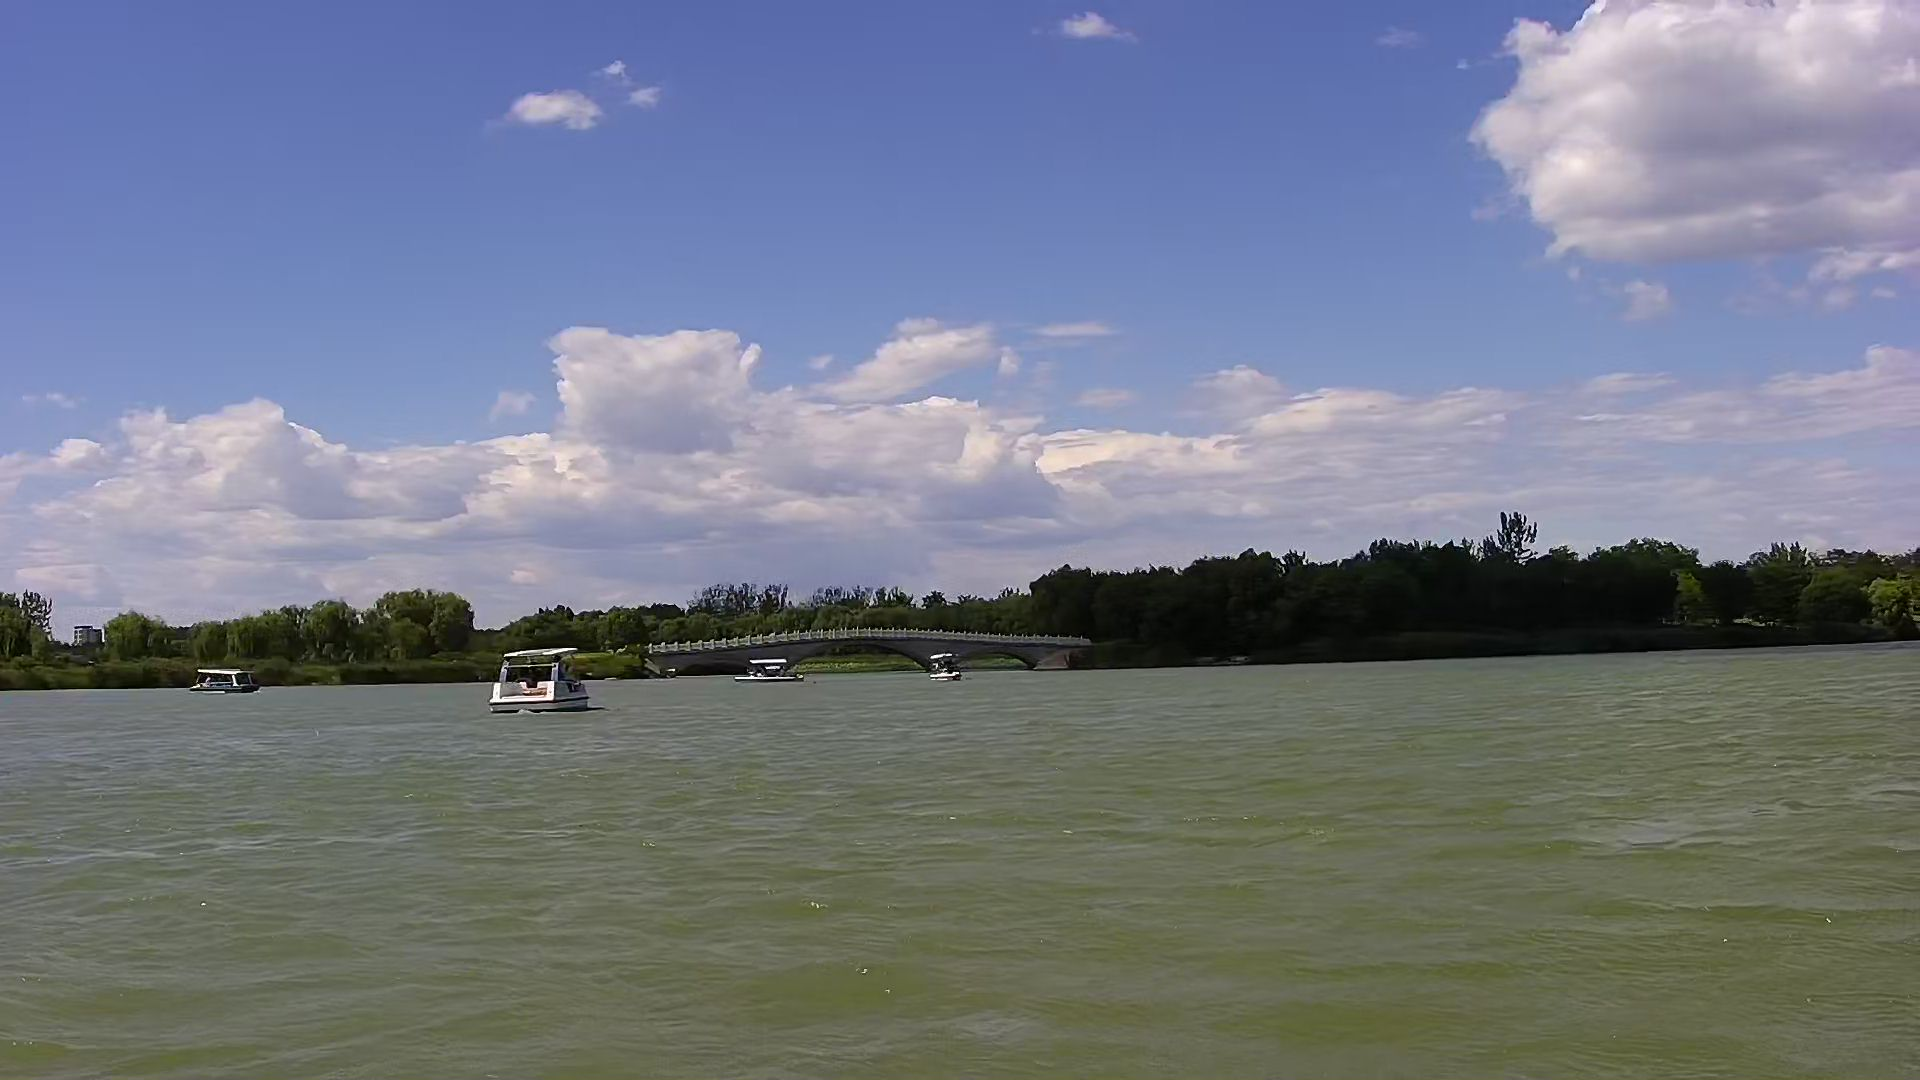boat: (488, 645, 599, 721), (185, 659, 265, 696), (729, 651, 799, 682)
bridge: (626, 618, 1079, 680)
